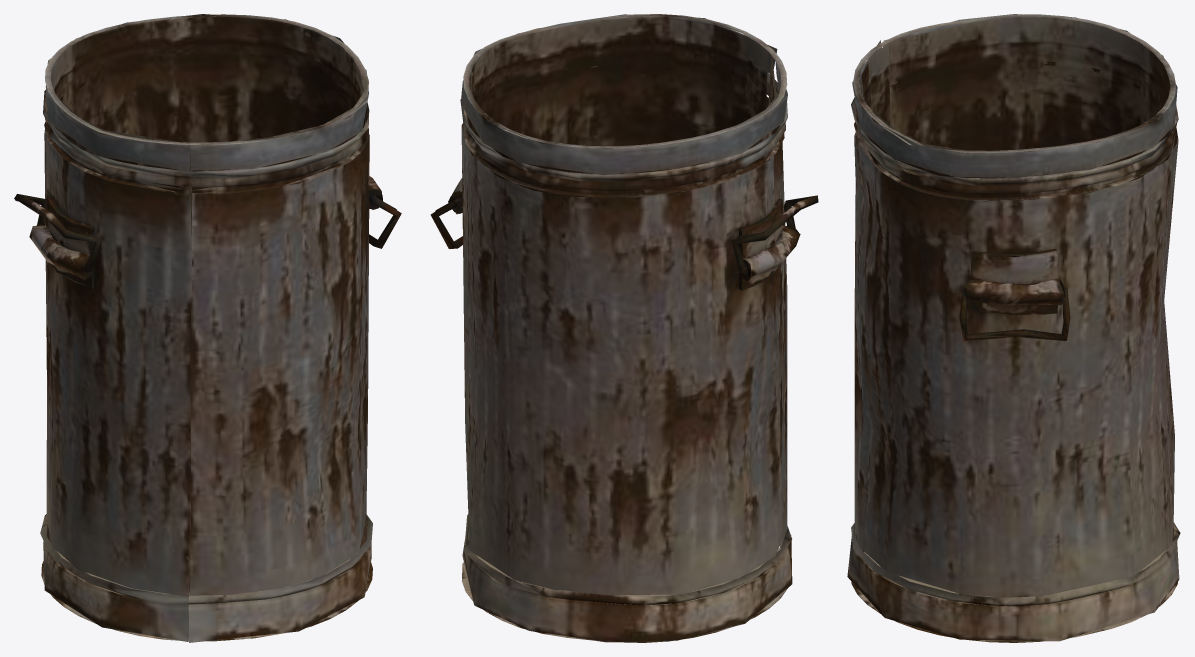
Rendered from trash_can_metal_rust_ph.glb.
3 renders of one model, left to right at view 1: azimuth 30°, elevation 25°; view 2: azimuth 150°, elevation 25°; view 3: azimuth 270°, elevation 25°, orthographic.
Visible parts, largest first — view 1: trash_can_metal_rust_ph; view 2: trash_can_metal_rust_ph; view 3: trash_can_metal_rust_ph.
Part boxes in pixels (x1,y1,x2,y2): trash_can_metal_rust_ph: [14, 14, 401, 642]; trash_can_metal_rust_ph: [430, 14, 818, 642]; trash_can_metal_rust_ph: [847, 14, 1180, 642].
Size of the model in its own units: 0.647 by 0.9063 by 0.5554.
Materials: 2 (2 with a texture image).
